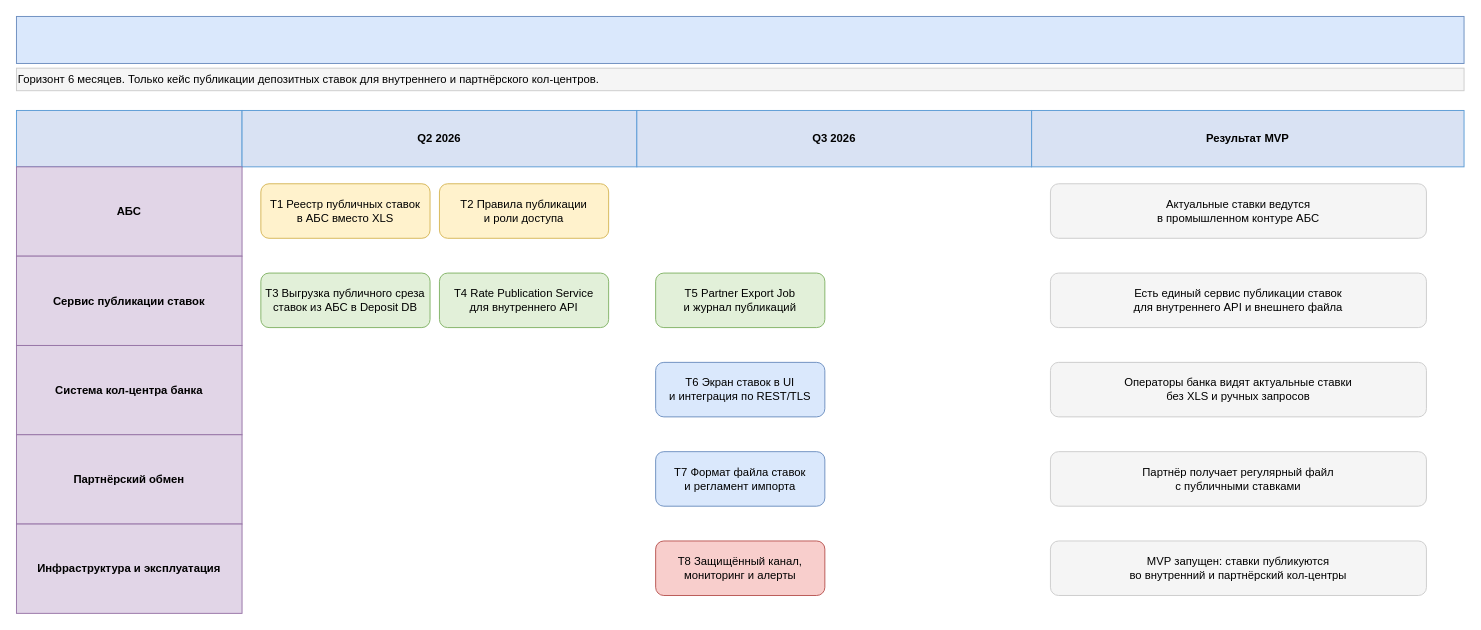
This 1481x630 diagram has some shape labels left out. Each missing label, with the box of its shape:
RoadMap MVP передачи ставок в кол-центры: (16, 16, 1464, 63)
Система / Период: (16, 110, 242, 167)
